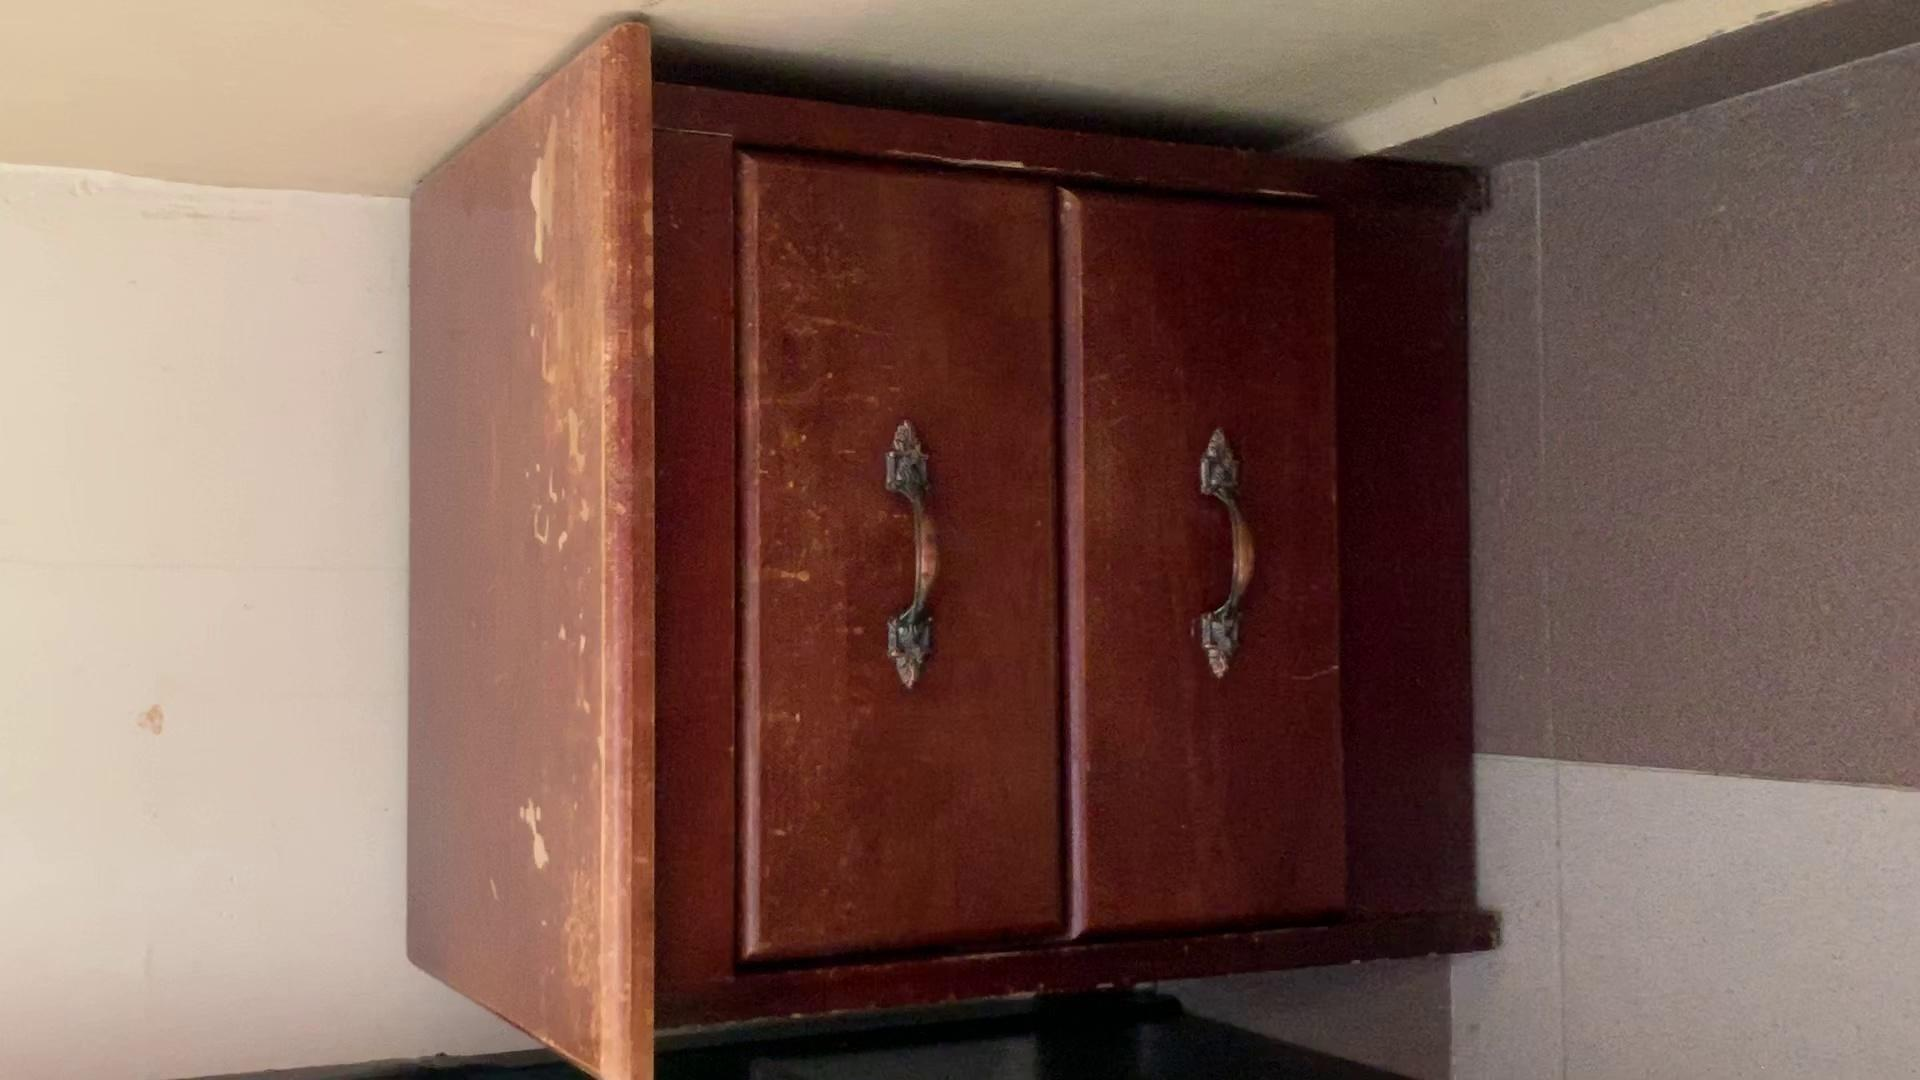cabinet_door: (691, 158, 1067, 965), (1065, 186, 1333, 922)
handle: (872, 417, 947, 692), (1193, 427, 1266, 680)
